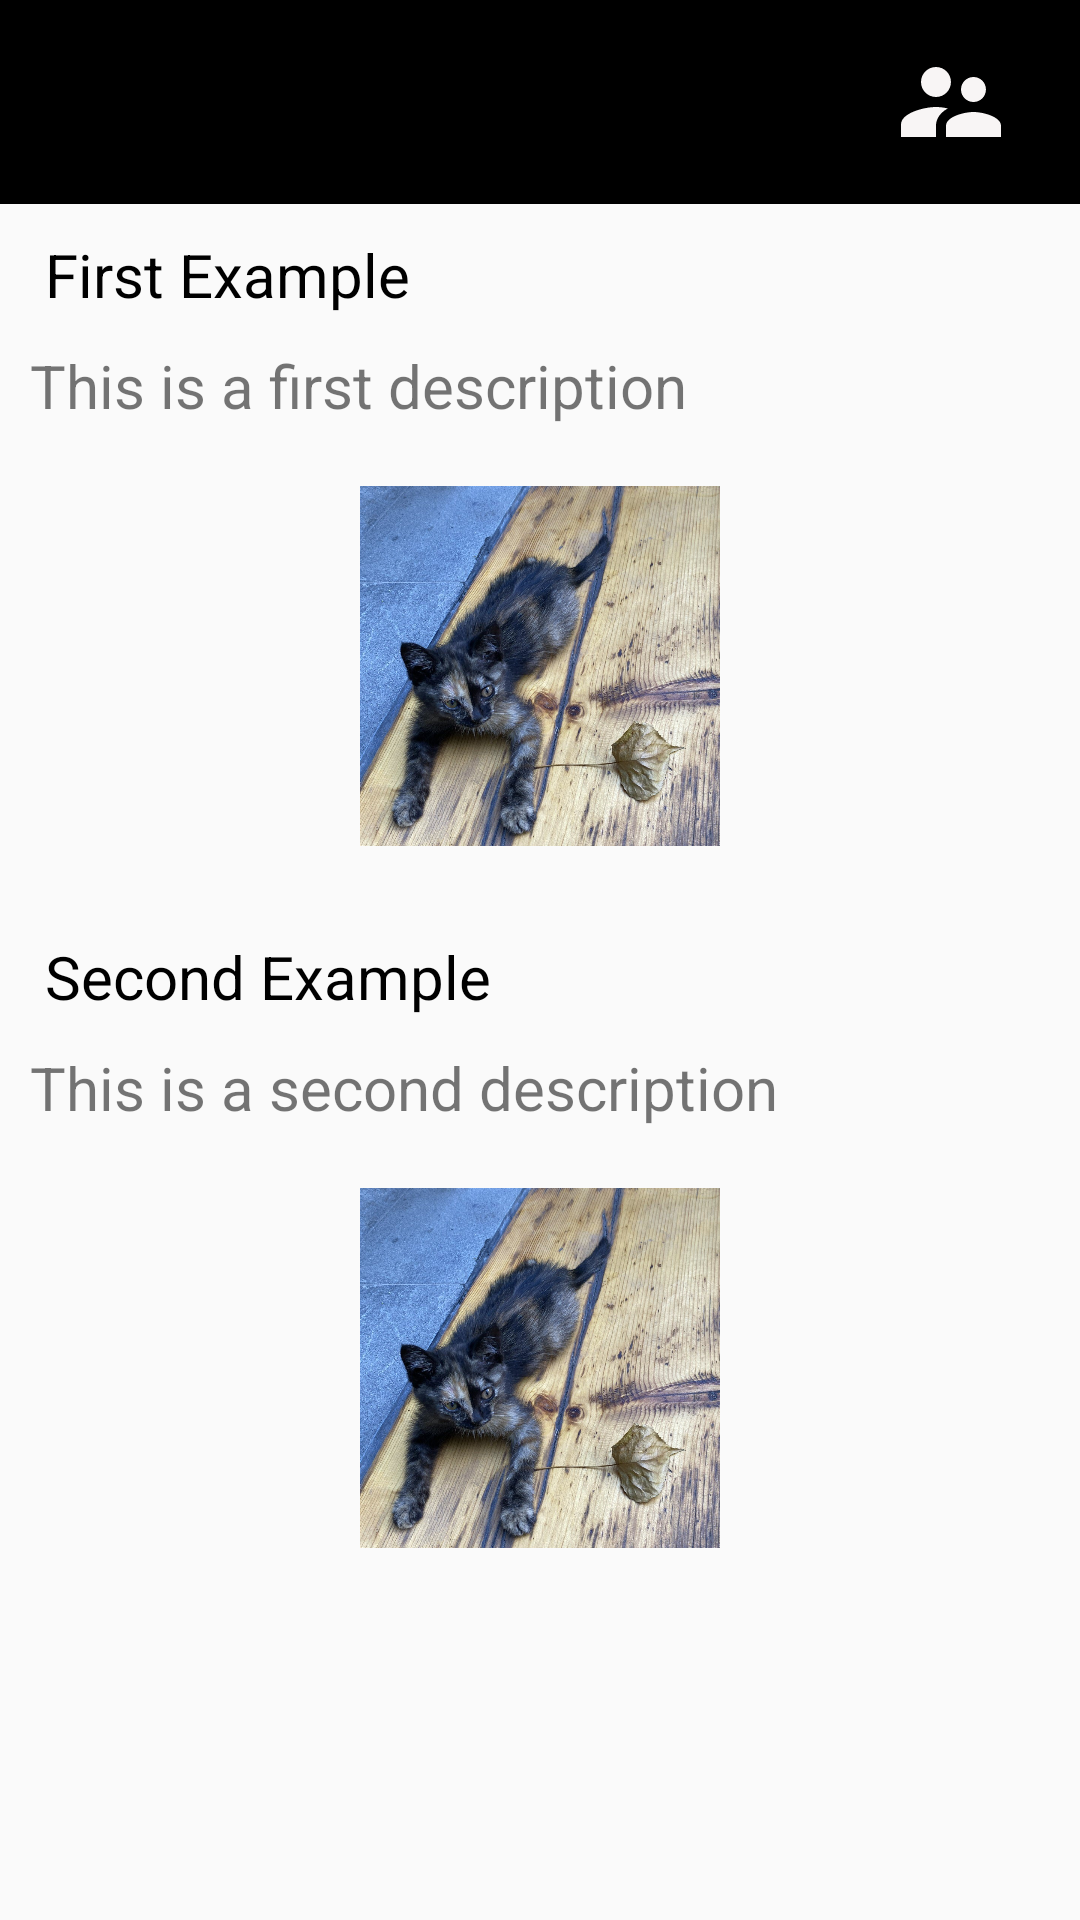

Icons on this 1080 × 1920 Android screen, each with its box as [left=x1, top=y1, right=x2, bottom=y2]:
supervisor account: [left=901, top=67, right=1001, bottom=137]
